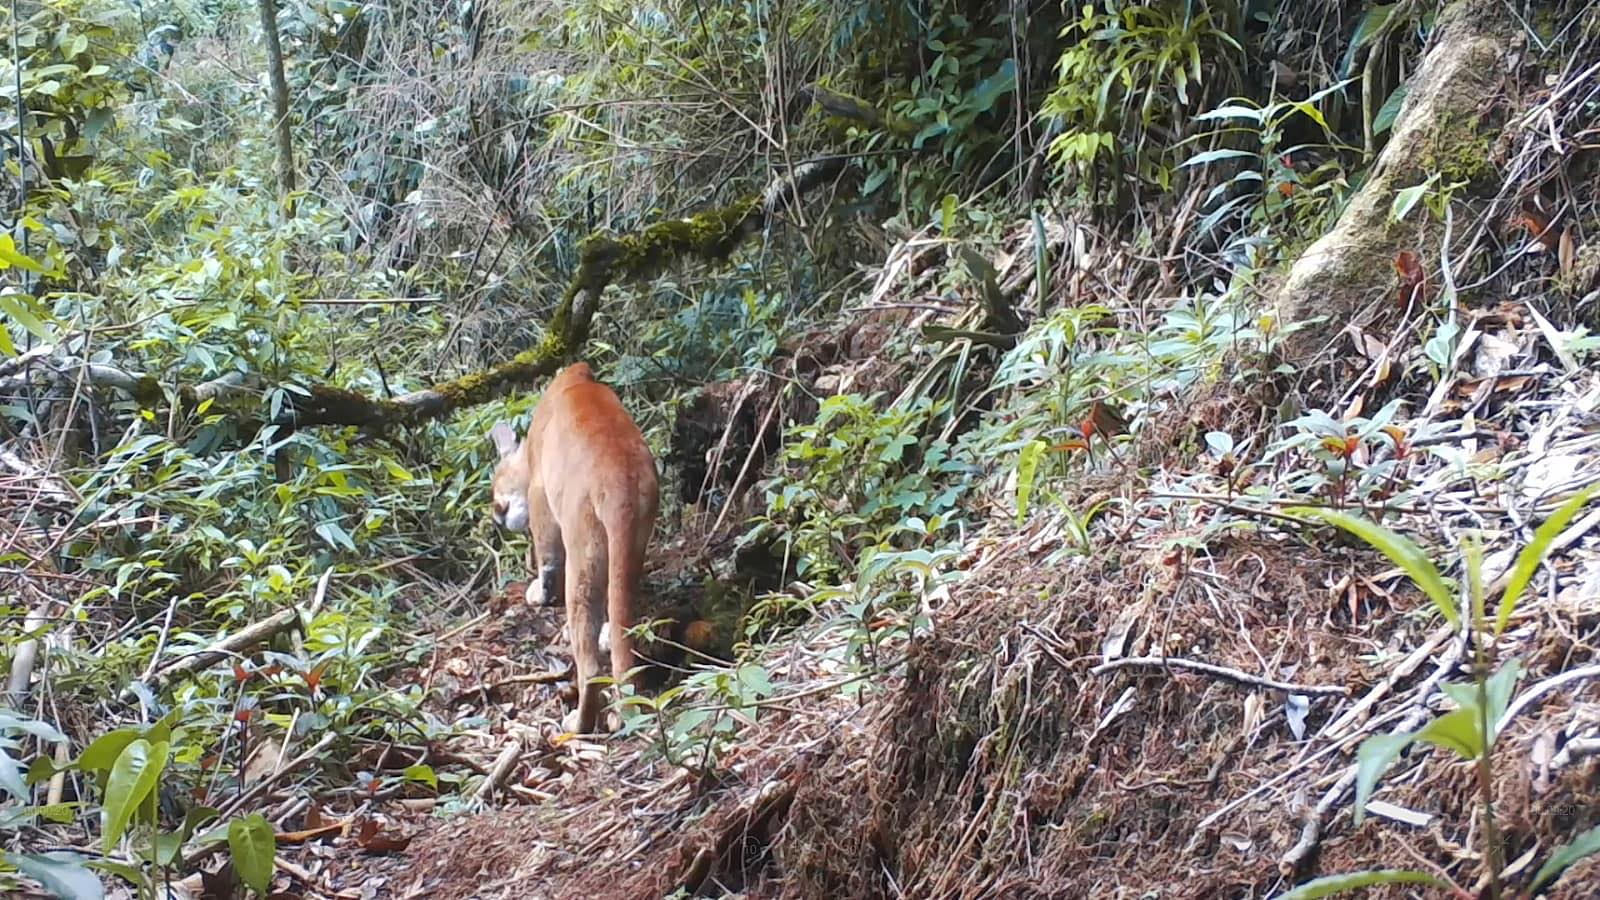OncaParda: (477, 354, 673, 749)
